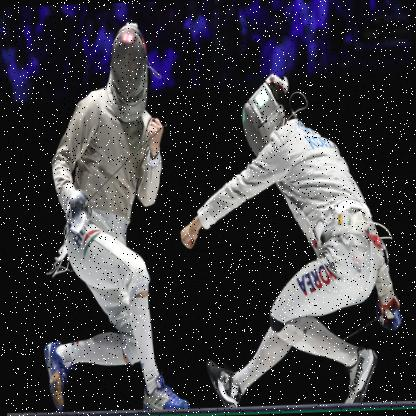fencer: (175, 69, 408, 414), (25, 14, 193, 415)
